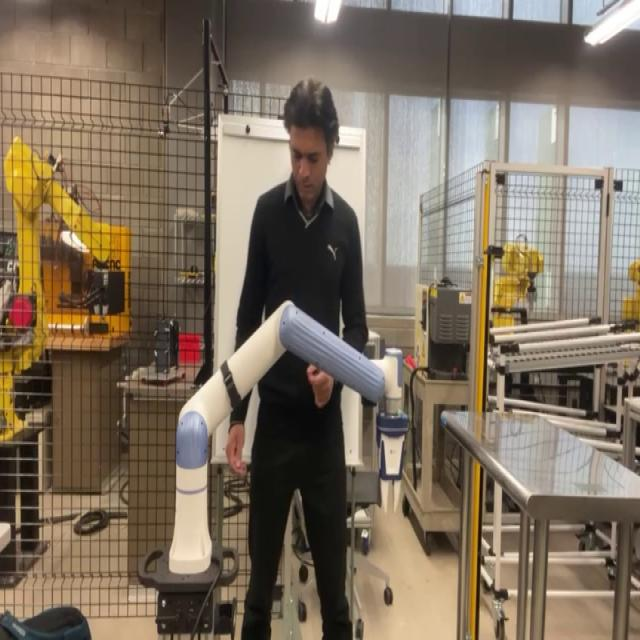human: (224, 76, 368, 637)
